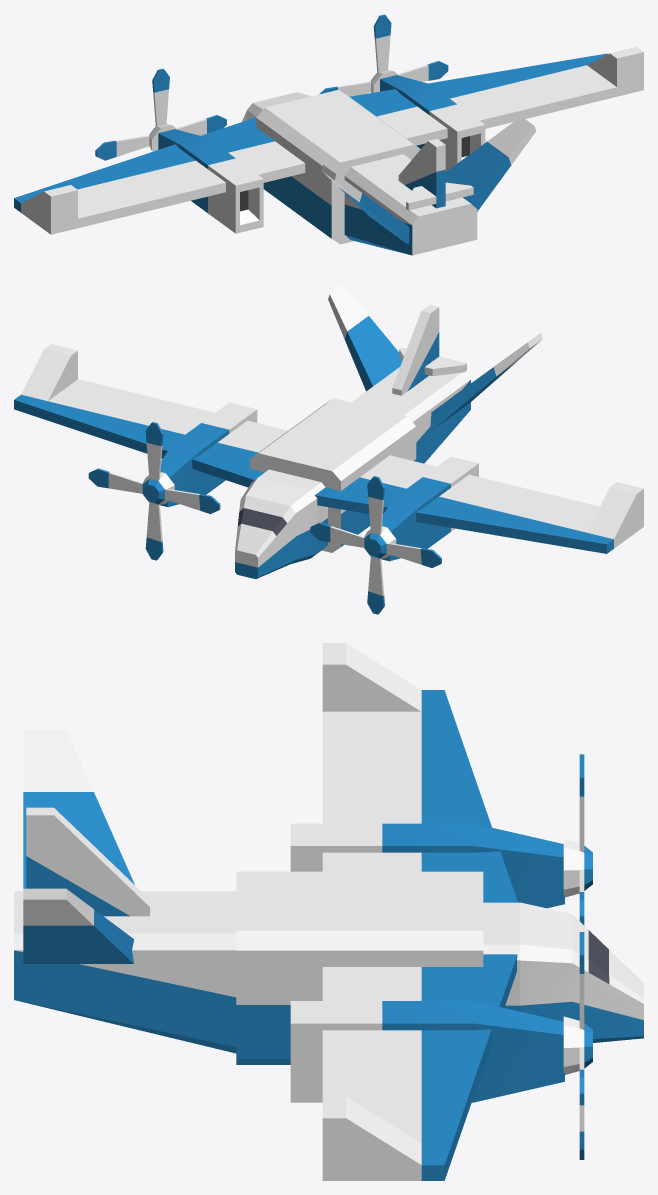
The model's file is TwinProp_Transport.model.fbx.
3 views of the same model, one above another, from view 1: azimuth 30°, elevation 25°; view 2: azimuth 150°, elevation 25°; view 3: azimuth 270°, elevation 25° (orthographic). The views are drawn at different scales.
Parts seen in each view (by area): view 1: wing_endHigh_69, wing_endHigh_73, plane_body_76, plane_end_63, engine_plane_70, engine_plane_74, wing_diagonalFin_81, plane_rudderLarge_77, detail_propeller_68, detail_propeller_75, wing_diagonalFin_78, plane_cockpitDown_60; view 2: wing_endHigh_69, wing_endHigh_73, plane_body_76, plane_cockpitDown_60, plane_end_63, detail_propeller_68, detail_propeller_75, engine_plane_70, engine_plane_74, wing_diagonalFin_81, plane_rudderLarge_77, wing_diagonalFin_78 (+1 smaller); view 3: plane_body_76, wing_endHigh_73, wing_endHigh_69, plane_end_63, engine_plane_74, plane_cockpitDown_60, engine_plane_70, plane_rudderLarge_77, wing_diagonalFin_78, wing_diagonalFin_81, detail_propeller_75, plane_body_62 (+1 smaller).
Boxes of the visible parts, x1,y1,x2,y2 form: wing_endHigh_69: (14, 117, 305, 234); wing_endHigh_73: (349, 47, 643, 145); plane_body_76: (256, 89, 420, 244); plane_end_63: (344, 154, 477, 255); engine_plane_70: (158, 129, 263, 233); engine_plane_74: (380, 75, 485, 171); wing_diagonalFin_81: (445, 116, 536, 211); plane_rudderLarge_77: (398, 138, 473, 210); detail_propeller_68: (95, 68, 226, 160); detail_propeller_75: (319, 14, 448, 96); wing_diagonalFin_78: (321, 165, 409, 243); plane_cockpitDown_60: (242, 92, 311, 121); wing_endHigh_69: (315, 455, 643, 553); wing_endHigh_73: (14, 344, 288, 487); plane_body_76: (249, 398, 416, 552); plane_cockpitDown_60: (235, 478, 316, 579); plane_end_63: (351, 367, 470, 463); detail_propeller_68: (310, 476, 441, 614); detail_propeller_75: (88, 422, 220, 560); engine_plane_70: (382, 456, 478, 561); engine_plane_74: (160, 402, 257, 507); wing_diagonalFin_81: (328, 284, 402, 391); plane_rudderLarge_77: (392, 304, 466, 395); wing_diagonalFin_78: (430, 333, 542, 429); plane_body_76: (236, 871, 483, 1064); wing_endHigh_73: (322, 954, 517, 1180); wing_endHigh_69: (322, 643, 517, 902); plane_end_63: (14, 891, 236, 1053); engine_plane_74: (290, 1001, 564, 1102); plane_cockpitDown_60: (520, 902, 643, 1042); engine_plane_70: (290, 823, 564, 908); plane_rudderLarge_77: (26, 807, 149, 916); wing_diagonalFin_78: (23, 730, 134, 888); wing_diagonalFin_81: (23, 888, 133, 963); detail_propeller_75: (563, 932, 592, 1159); plane_body_62: (483, 902, 520, 1011).
Bounding box in the file's own units: 91 × 23 × 51.
